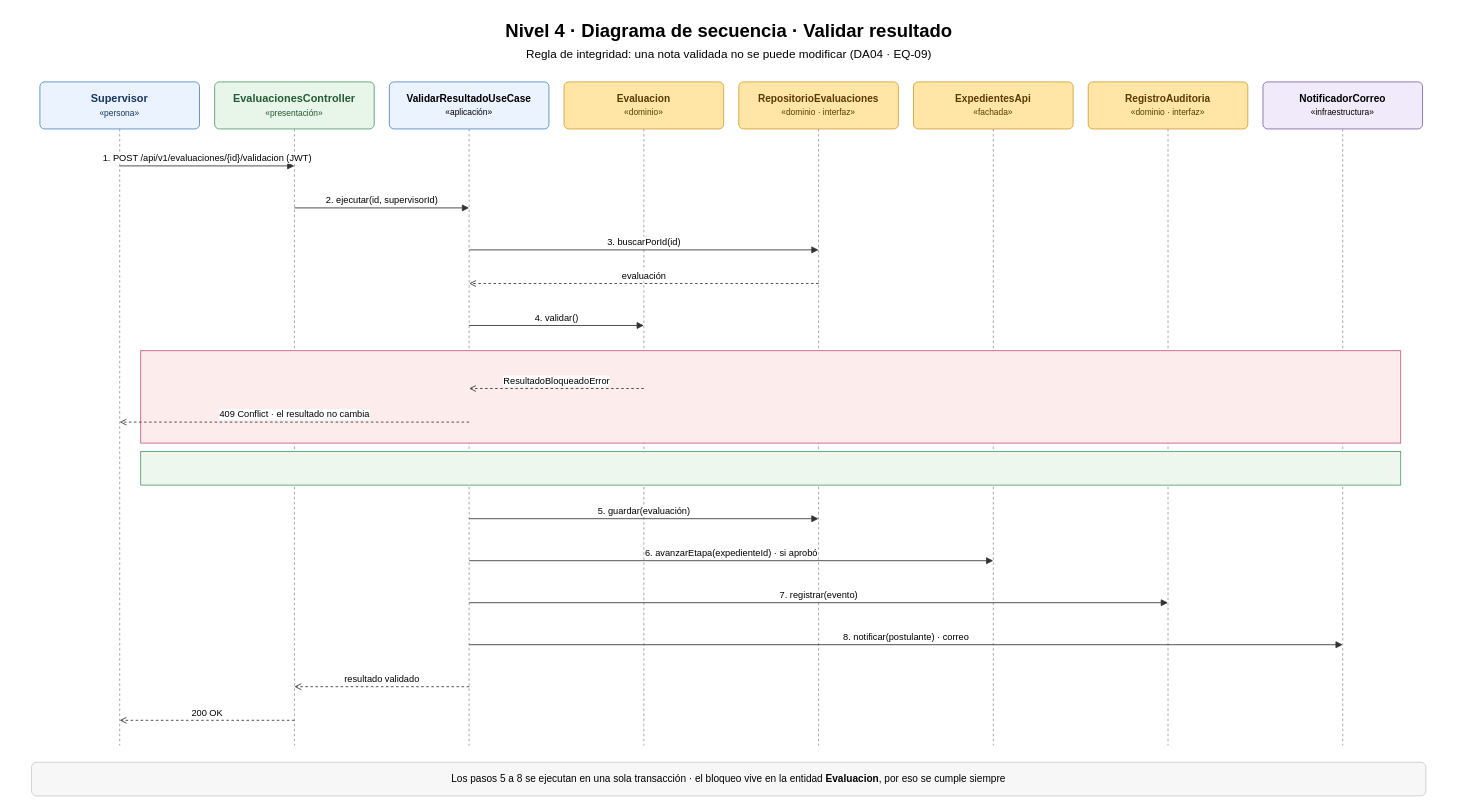
Image size: 1457x811. Some labels were removed from this diagram. Each missing label, with the box of its shape:
[ el resultado estaba REGISTRADO ] → pasa a VALIDADO y queda bloqueado: (140, 451, 1401, 485)
alt [ el resultado ya estaba VALIDADO ]: (140, 350, 1401, 443)
